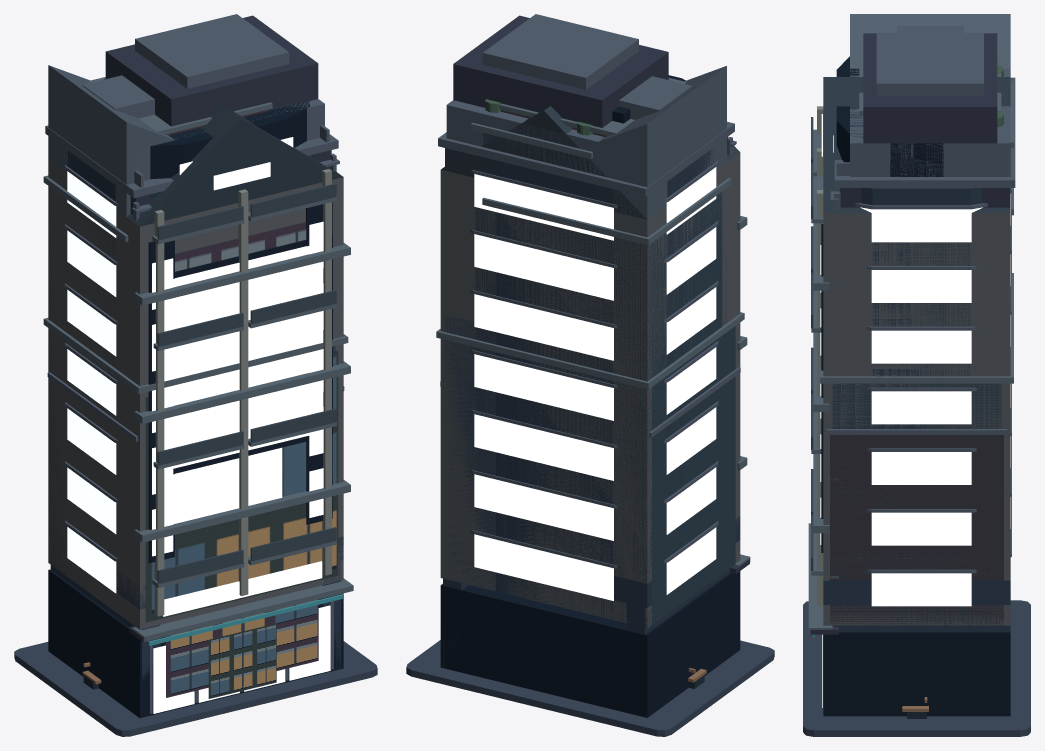
Rendered from city-kit-mobile.glb.
3 views of the same model, side by side, from view 1: azimuth 30°, elevation 25°; view 2: azimuth 150°, elevation 25°; view 3: azimuth 270°, elevation 25° (orthographic). The views are drawn at different scales.
Visible parts, largest first — view 1: City_Civic_Stone_mobile, City_Qfront_Windows_mobile, City_StationTower_Stone_mobile, City_Hotel_Stone_mobile, City_Arcade_Stone_mobile, City_RoofGarden_Atlas_mobile, City_SlantTower_Stone_mobile, City_Meeting_Stone_mobile, City_Rounded_Windows_mobile, City_Civic_Atlas_mobile, City_Station_Atlas_mobile, City_RoofGarden_Windows_mobile (+10 smaller); view 2: City_Civic_Stone_mobile, City_Rounded_Windows_mobile, City_SlantTower_Stone_mobile, City_RoofGarden_Stone_mobile, City_Landmark109_Windows_mobile, City_StationTower_Stone_mobile, City_Arcade_Stone_mobile, City_Rounded_Stone_mobile, City_Landmark109_Stone_mobile, City_Meeting_Stone_mobile, City_Station_Stone_mobile, City_Qfront_Stone_mobile (+2 smaller); view 3: City_Civic_Stone_mobile, City_Terrace_Stone_mobile, City_StationTower_Stone_mobile, City_Arcade_Stone_mobile, City_Rounded_Windows_mobile, City_Landmark109_Windows_mobile, City_RoofGarden_Stone_mobile, City_Meeting_Stone_mobile, City_Landmark109_Stone_mobile, City_Rounded_Stone_mobile, City_SlantTower_Stone_mobile, City_Station_Stone_mobile (+2 smaller).
Part boxes in pixels (x1,y1,x2,y2): City_Civic_Stone_mobile: (48,105,353,717); City_Qfront_Windows_mobile: (164,246,323,468); City_StationTower_Stone_mobile: (105,14,324,182); City_Hotel_Stone_mobile: (88,77,336,587); City_Arcade_Stone_mobile: (45,76,343,713); City_RoofGarden_Atlas_mobile: (145,350,338,622); City_SlantTower_Stone_mobile: (48,65,174,568); City_Meeting_Stone_mobile: (14,641,377,736); City_Rounded_Windows_mobile: (67,171,116,593); City_Civic_Atlas_mobile: (175,222,306,698); City_Station_Atlas_mobile: (166,599,318,697); City_RoofGarden_Windows_mobile: (164,447,282,524); City_Civic_Stone_mobile: (440,106,750,717); City_Rounded_Windows_mobile: (474,167,716,600); City_SlantTower_Stone_mobile: (444,66,726,627); City_RoofGarden_Stone_mobile: (436,99,744,624); City_Landmark109_Windows_mobile: (495,176,704,588); City_StationTower_Stone_mobile: (446,14,668,184); City_Arcade_Stone_mobile: (438,106,749,716); City_Rounded_Stone_mobile: (470,148,718,616); City_Landmark109_Stone_mobile: (492,75,706,602); City_Meeting_Stone_mobile: (406,640,774,736); City_Station_Stone_mobile: (443,516,740,668); City_Qfront_Stone_mobile: (619,76,692,119); City_Civic_Stone_mobile: (808,77,1010,716); City_Terrace_Stone_mobile: (826,416,1007,625); City_StationTower_Stone_mobile: (850,32,1010,176); City_Arcade_Stone_mobile: (810,77,1015,716); City_Rounded_Windows_mobile: (860,194,1010,606); City_Landmark109_Windows_mobile: (833,135,946,606); City_RoofGarden_Stone_mobile: (820,65,1013,625); City_Meeting_Stone_mobile: (803,600,1030,736); City_Landmark109_Stone_mobile: (836,56,1011,625); City_Rounded_Stone_mobile: (855,188,1011,625); City_SlantTower_Stone_mobile: (850,14,1010,68); City_Station_Stone_mobile: (823,580,1010,631).
Size of the model in its own units: 23 by 51.5 by 17.
3 materials, 1 textured.
